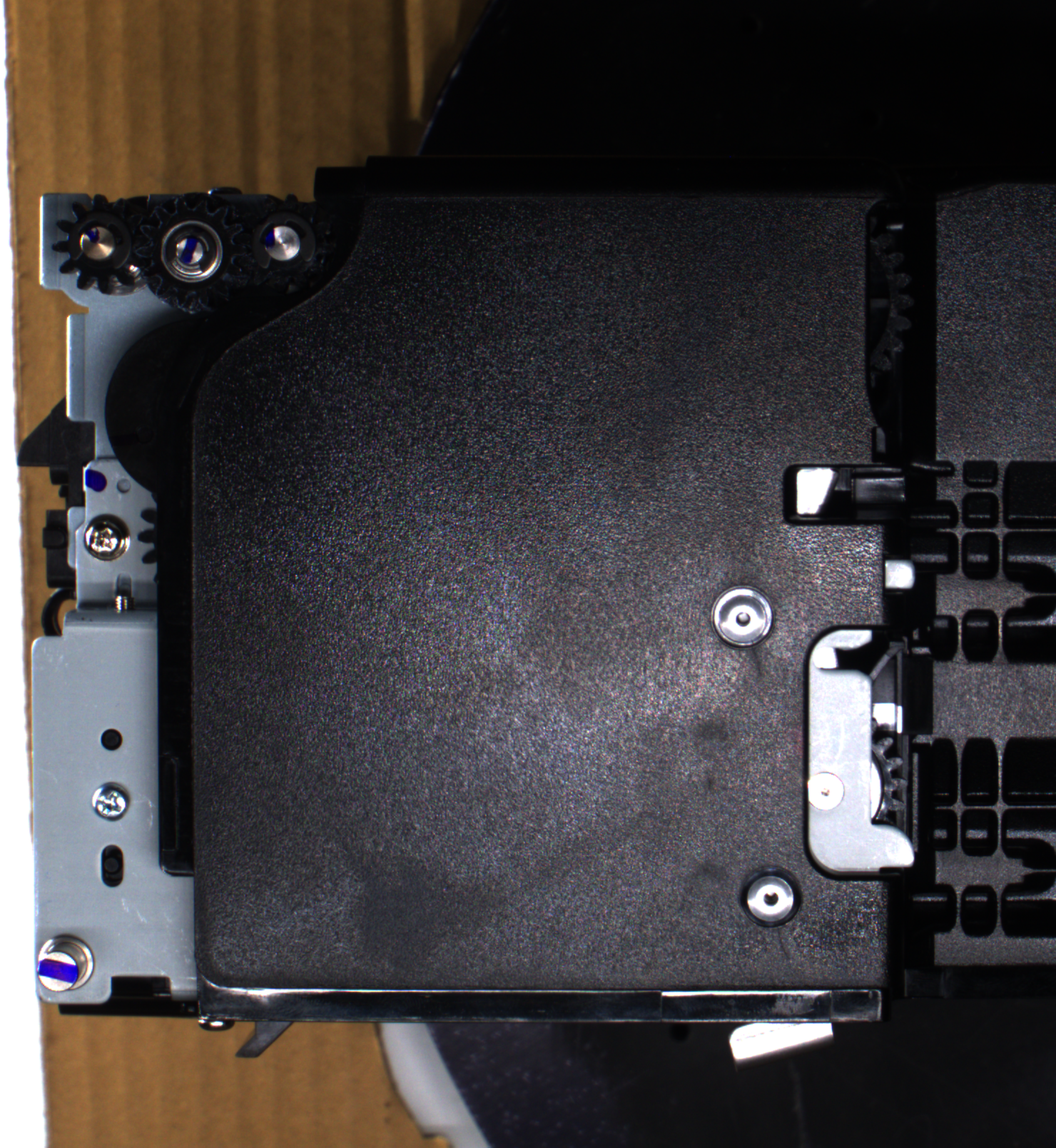centre_pin_presence: (720, 1007, 838, 1071)
centre_plate_presence: (796, 619, 924, 887)
centre_screw_presence: (706, 579, 780, 657), (732, 859, 806, 931)
gear1_presence: (51, 192, 151, 300)
gear2_presence: (136, 191, 249, 314)
gear3_presence: (232, 191, 332, 297)
side_screw_presence: (81, 510, 133, 563), (87, 779, 133, 822)
slanting_pin_presence: (31, 928, 102, 1000)
